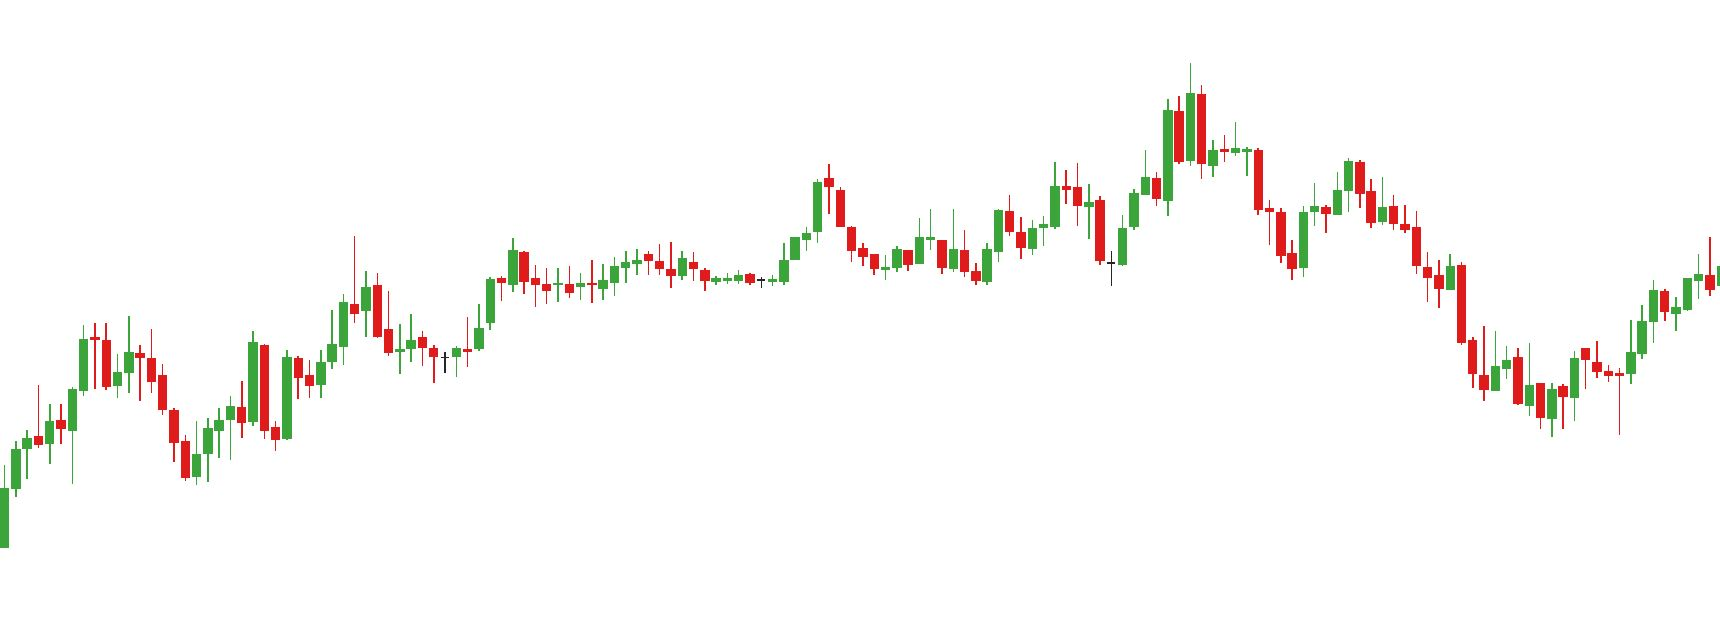buy: (65, 362, 204, 486), (1012, 193, 1129, 289)
